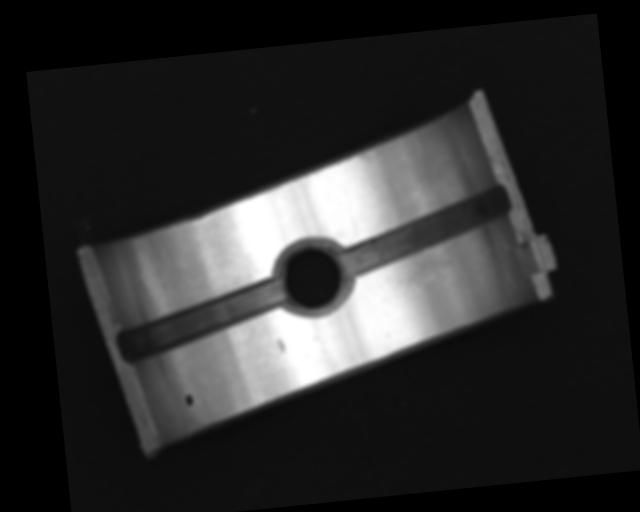blot: (183, 391, 194, 408)
bruise: (276, 337, 284, 354)
gap: (334, 187, 516, 278), (113, 278, 288, 364)
hole: (271, 238, 356, 321)
scratch: (385, 252, 470, 298)
